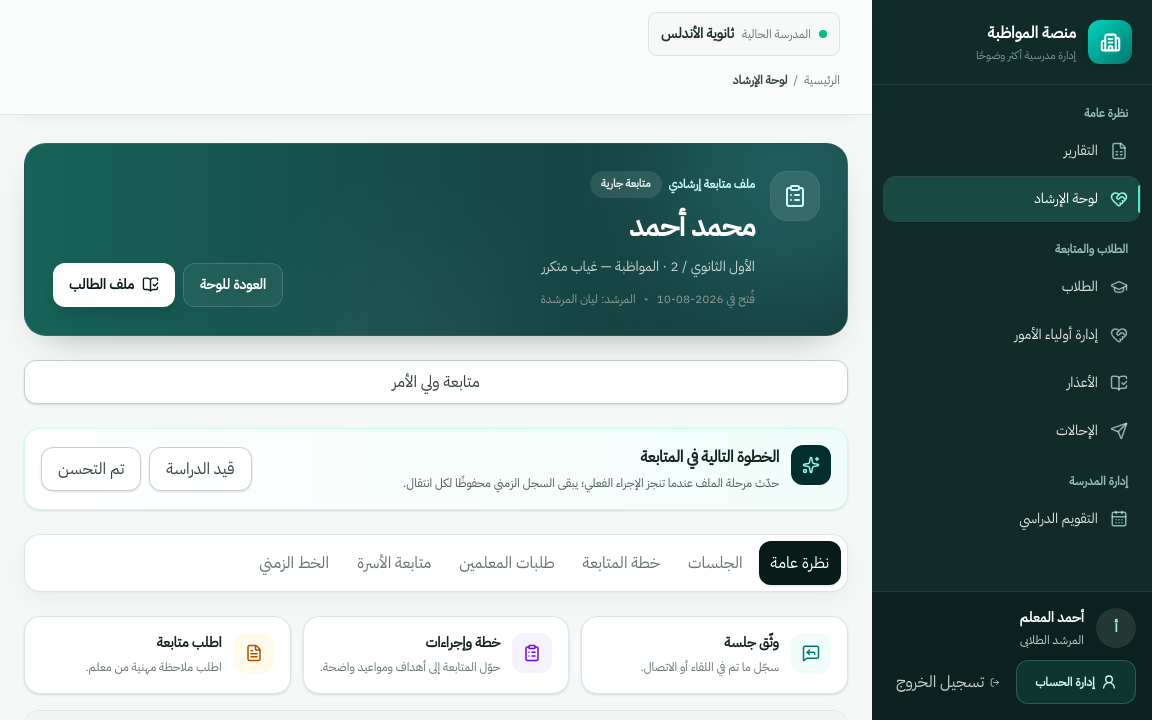
Test: case detail (Phase 14) › keeps goals and activities read-only after the plan is completed
Click the tab "خطة المتابعة" at (621, 562), box top-left (571, 540), bottom-right (672, 584)
(page scrolled)
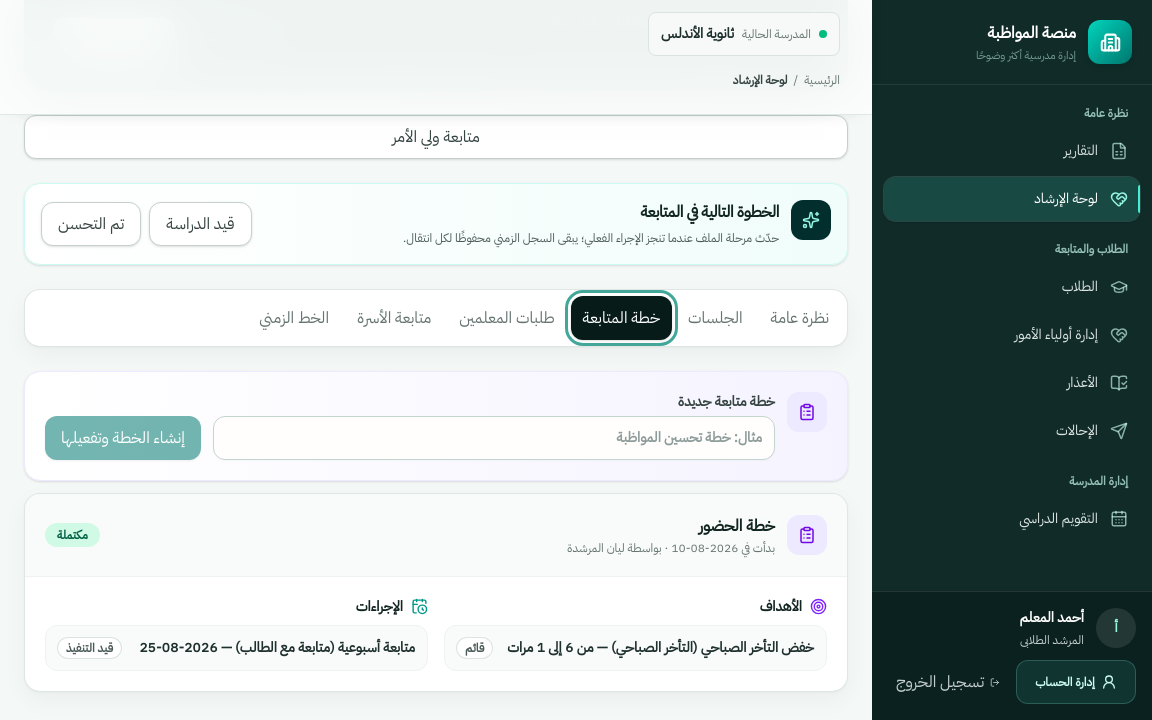
Now the text with test id "plan-status-11" reads "مكتملة", box top-left (57, 526), bottom-right (88, 544)
